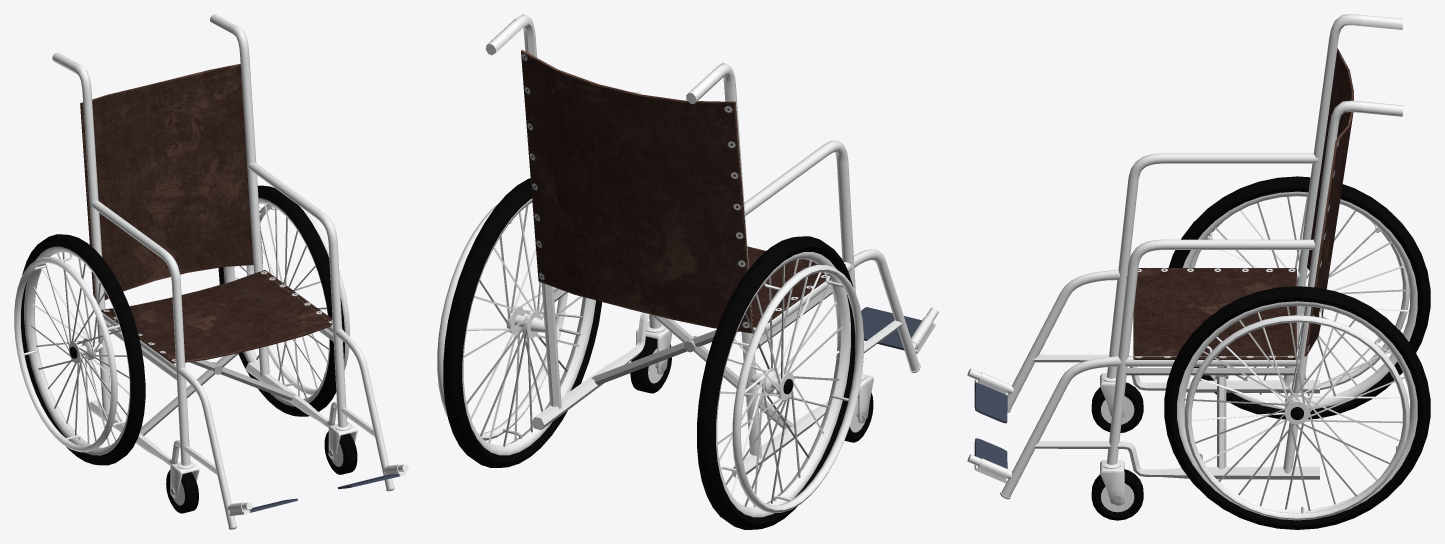
File: wheelchair.obj
3 renders of one model, left to right at view 1: azimuth 30°, elevation 25°; view 2: azimuth 150°, elevation 25°; view 3: azimuth 270°, elevation 25°, orthographic. The views are drawn at different scales.
Parts seen in each view (by area): view 1: LOD0_Wheelchair002; view 2: LOD0_Wheelchair002; view 3: LOD0_Wheelchair002.
Part boxes in pixels (x1,y1,x2,y2): LOD0_Wheelchair002: (14,14,408,529); LOD0_Wheelchair002: (437,14,938,529); LOD0_Wheelchair002: (967,14,1430,529).
Size of the model in its own units: 0.6673 by 0.9871 by 0.995.
1 material, 1 textured.
